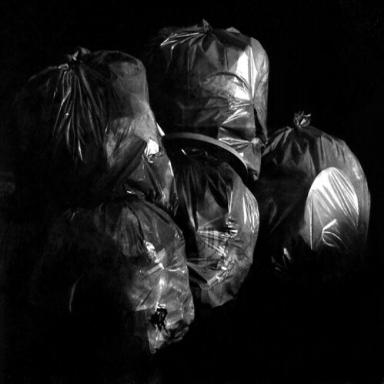plasticbag: (16, 54, 176, 201), (36, 200, 187, 350), (262, 134, 372, 296), (153, 25, 271, 125), (170, 142, 253, 282)
